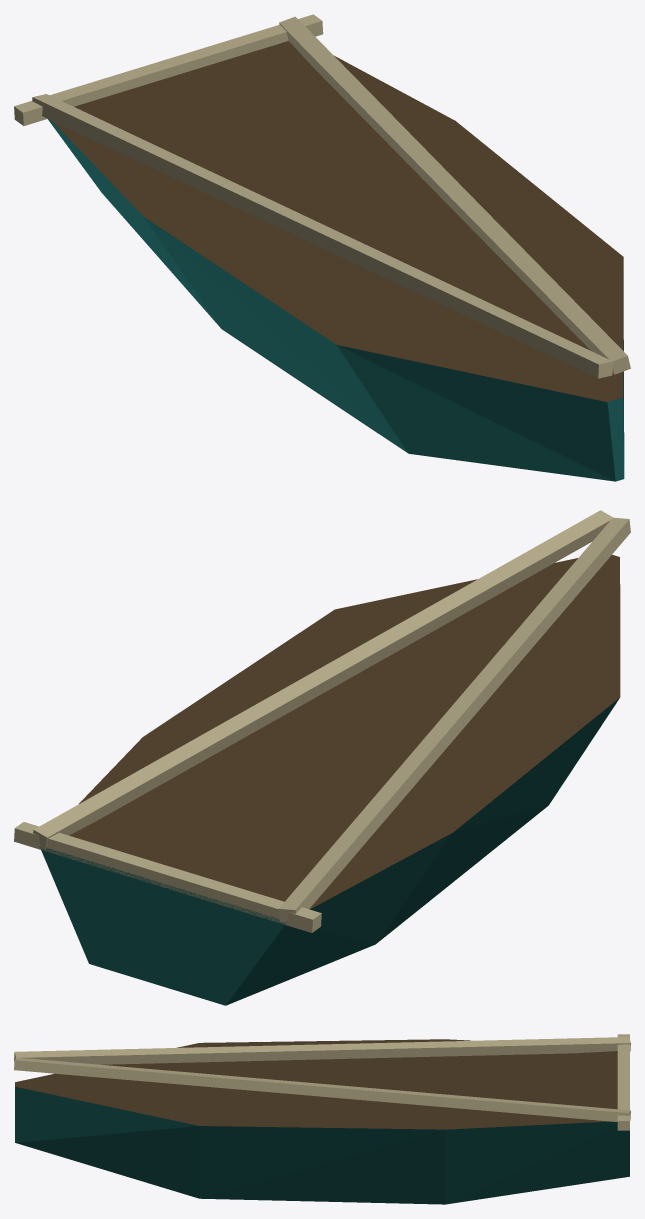
Rendered from drowned_rowboat.glb.
3 views of the same model, one above another, from view 1: azimuth 30°, elevation 25°; view 2: azimuth 150°, elevation 25°; view 3: azimuth 270°, elevation 25° (orthographic). The views are drawn at different scales.
Parts seen in each view (by area): view 1: drowned_rowboat; view 2: drowned_rowboat; view 3: drowned_rowboat.
Part boxes in pixels (<box>): drowned_rowboat: <box>14,14,630,481</box>; drowned_rowboat: <box>14,510,630,1005</box>; drowned_rowboat: <box>14,1034,630,1204</box>.
Bounding box in the file's own units: 1.2 × 0.6711 × 3.01.
